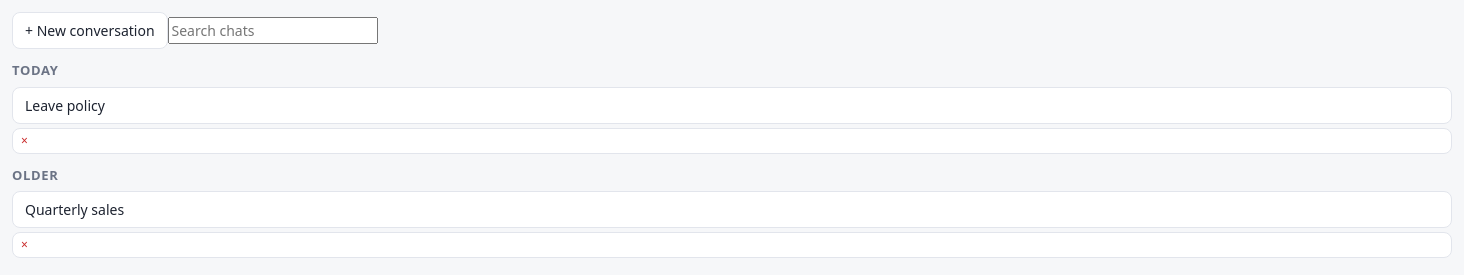
Test: ConversationList › searches by title
Step 1. Type "sales" into the search field named "Search conversations" → (272, 30), box [168,17,378,44]
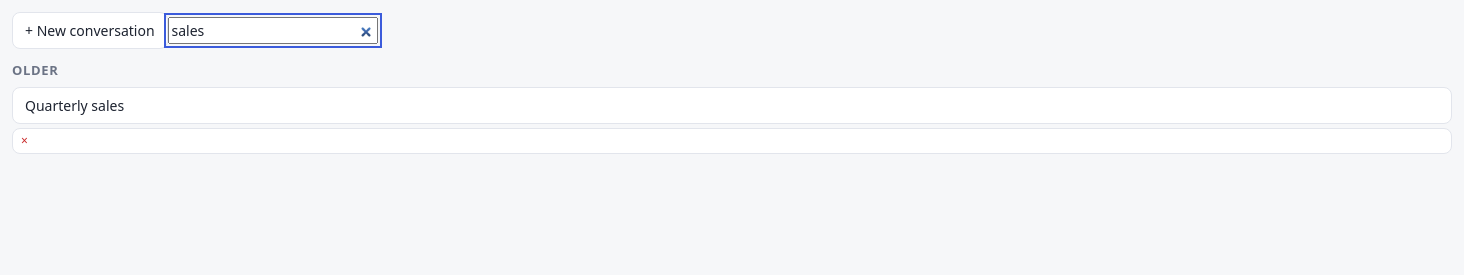
Expected: the button "Quarterly sales" is shown, [12,86,1452,124]
Expected: the button "Leave policy" is gone
Step 2. Replace the text in the search field named "Search conversations" with "zzz" → (272, 30), box [168,17,378,44]
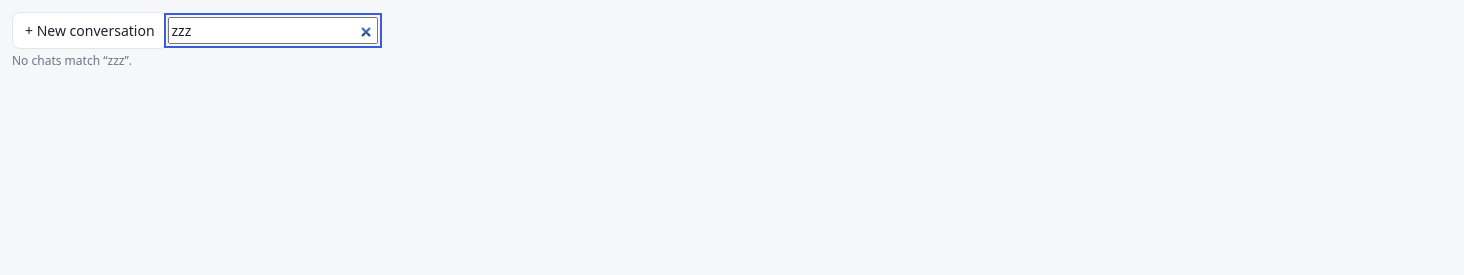
Expected: the text "No chats match “zzz”." is shown, [12,52,132,69]
